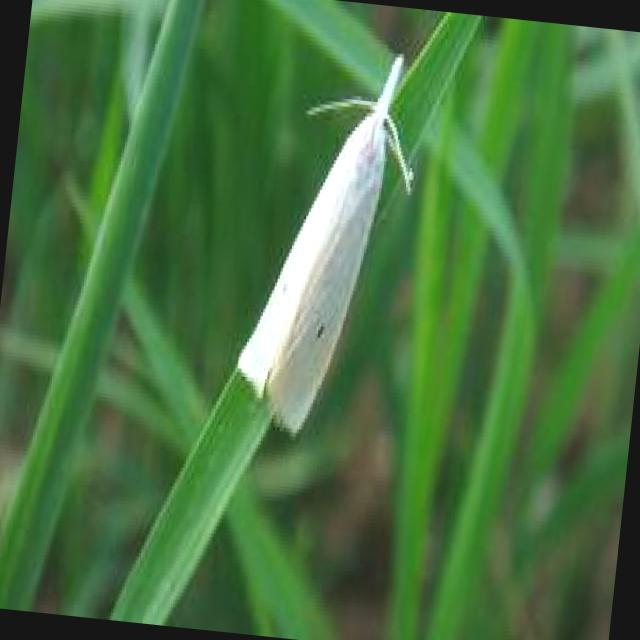stem borer: (238, 55, 412, 433)
